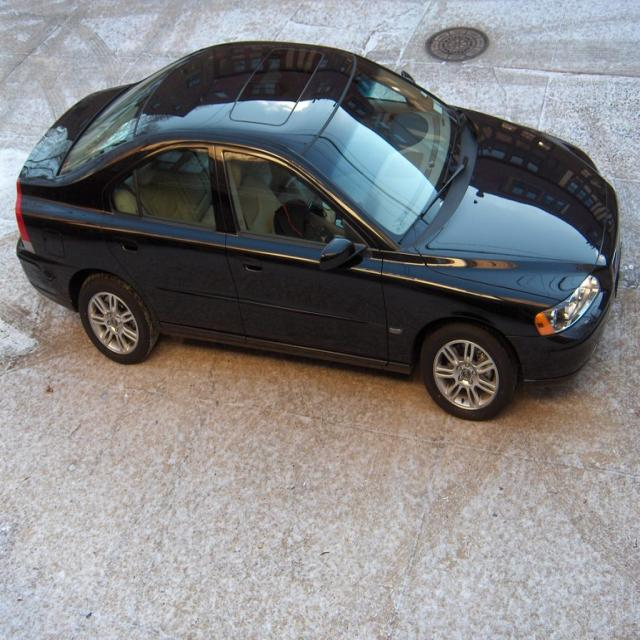car: (16, 40, 620, 417)
